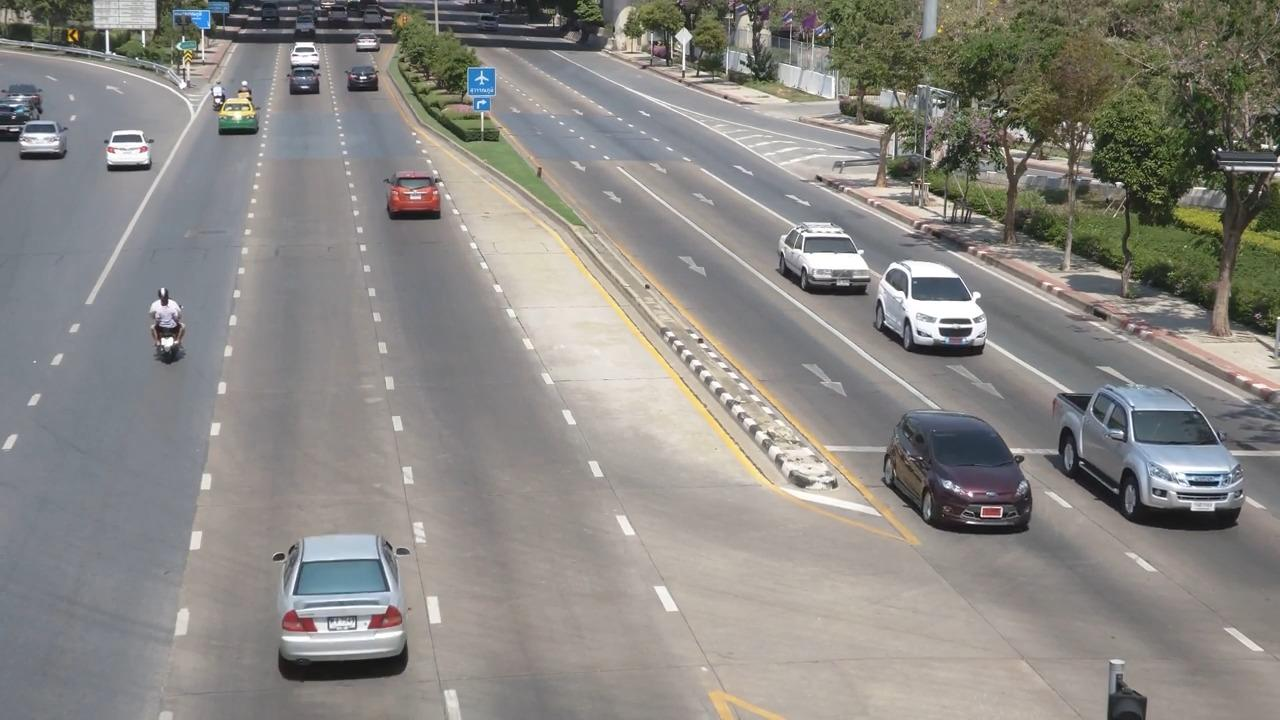CAR: (1046, 373, 1247, 535), (272, 518, 436, 687), (872, 399, 1044, 545), (863, 251, 996, 359), (773, 215, 875, 303), (372, 154, 465, 234), (91, 120, 172, 180), (203, 96, 273, 145), (11, 117, 75, 168), (282, 56, 332, 102), (339, 58, 387, 103), (2, 80, 51, 124), (353, 25, 392, 63), (283, 46, 327, 79), (248, 3, 286, 37), (291, 16, 322, 45)
MOTOR: (129, 272, 211, 378), (194, 84, 228, 131), (227, 84, 260, 126)
